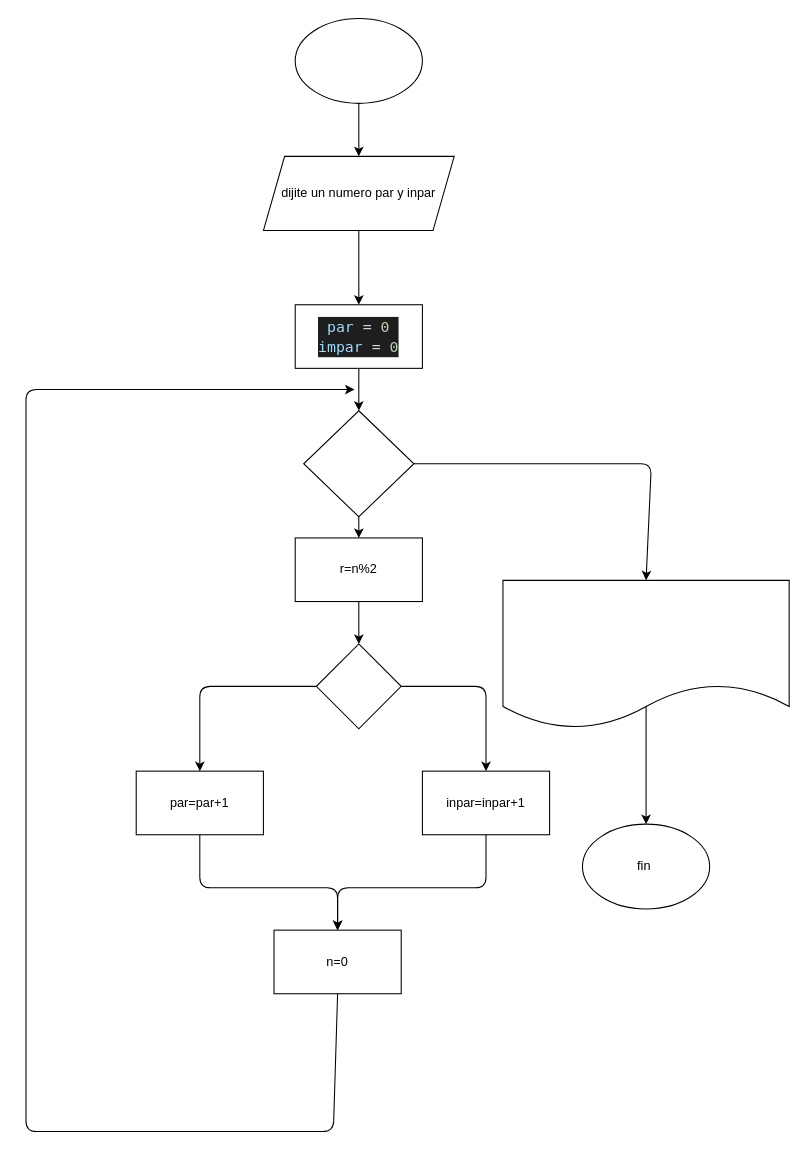
The diagram is 808 pixels wide and 1159 high, and some of its shapes have lost their labels. Here are the shapes that lost their labels. From the top down, the centre of each, then its label:
the point at 358,60: inicio
the point at 358,463: n !=0
the point at 645,654: Se ingresaron par números pares Se ingresaron impar números impares
the point at 358,686: r==0
